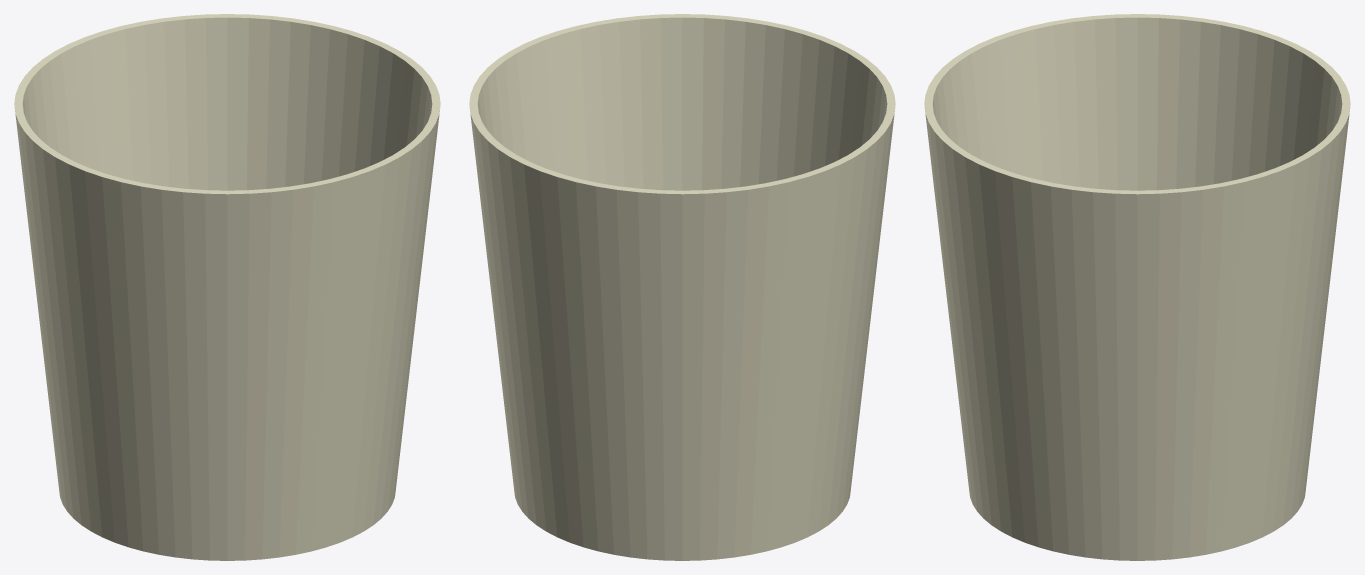
File: bin.glb
The picture shows the model from 3 angles, left to right: view 1: azimuth 30°, elevation 25°; view 2: azimuth 150°, elevation 25°; view 3: azimuth 270°, elevation 25°; orthographic projection.
Visible parts, largest first — view 1: Cylindre; view 2: Cylindre; view 3: Cylindre.
Boxes of the visible parts, x1,y1,x2,y2 form: Cylindre: (14, 14, 440, 560); Cylindre: (469, 14, 895, 560); Cylindre: (924, 14, 1350, 560).
Size of the model in its own units: 2 by 2 by 2.
